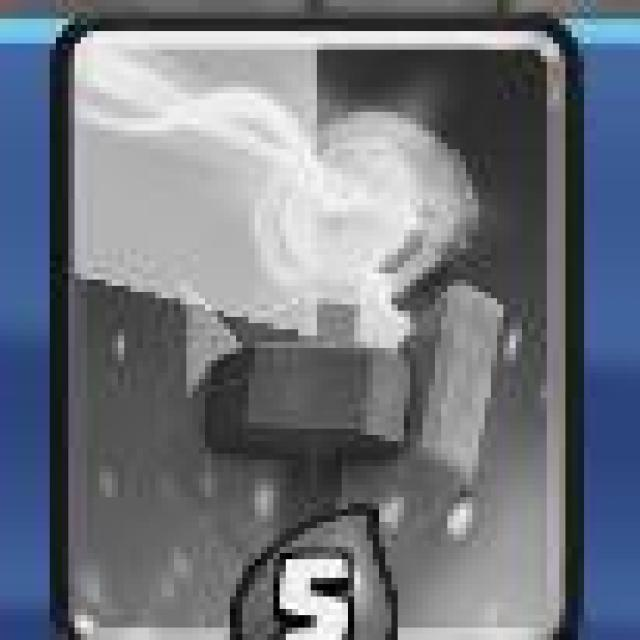Inferno_Tower: (57, 20, 570, 640)
